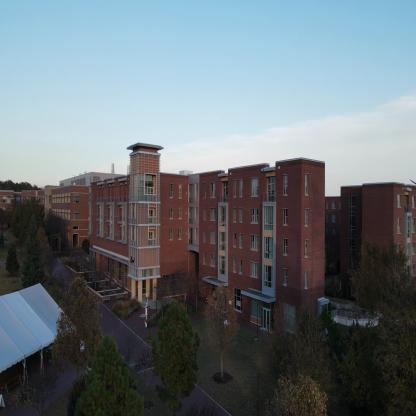Wolf Ridge: (90, 137, 333, 325), (340, 148, 415, 296)
